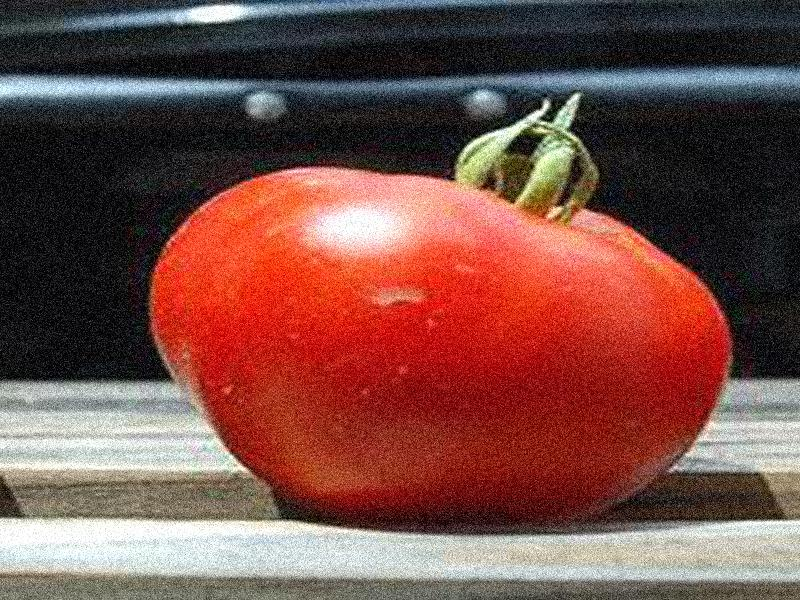Tomato: (150, 96, 729, 518)
